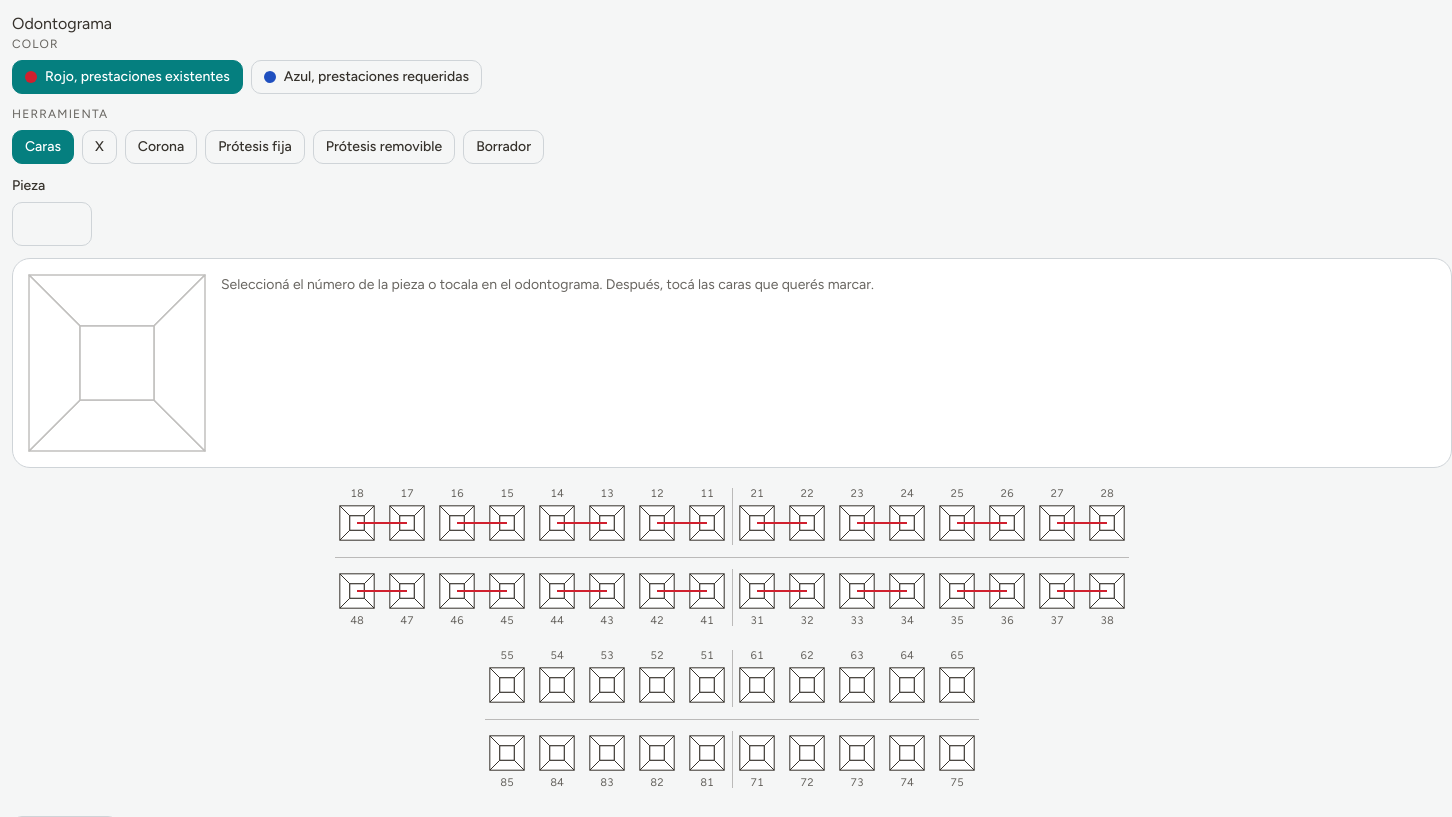
Test: CampoOdontograma › las prótesis › con 16 prótesis marcadas avisa y no suma la 17
The image size is (1452, 817).
Click the radio button labelled "Prótesis removible" at (384, 147), box x1=313 y1=130 x2=455 y2=164
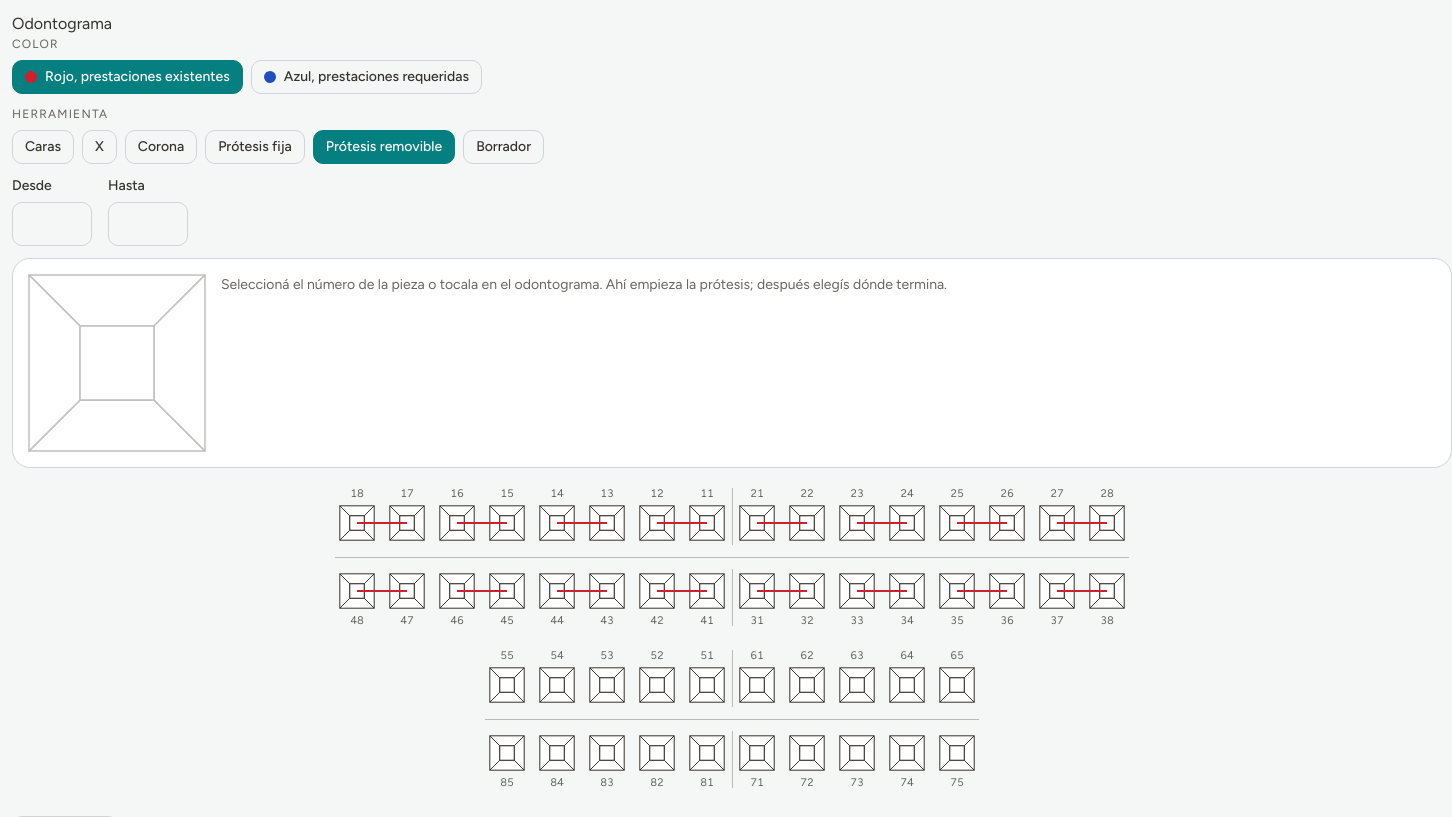
Click the button named "Pieza 55" at (507, 678), box x1=485 y1=650 x2=529 y2=707
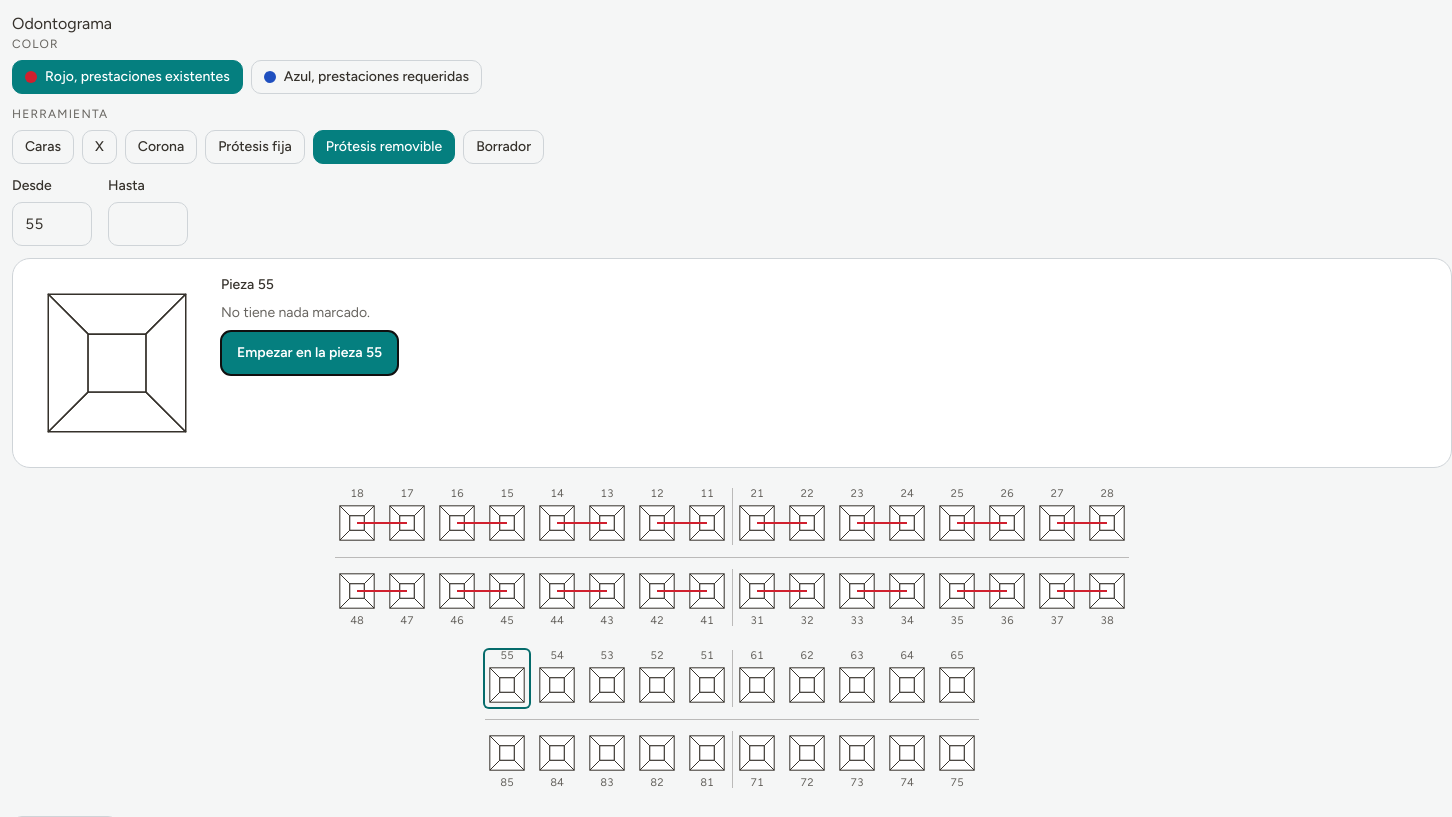
Click the button "Empezar en la pieza 55" at (310, 353), box x1=221 y1=331 x2=398 y2=375
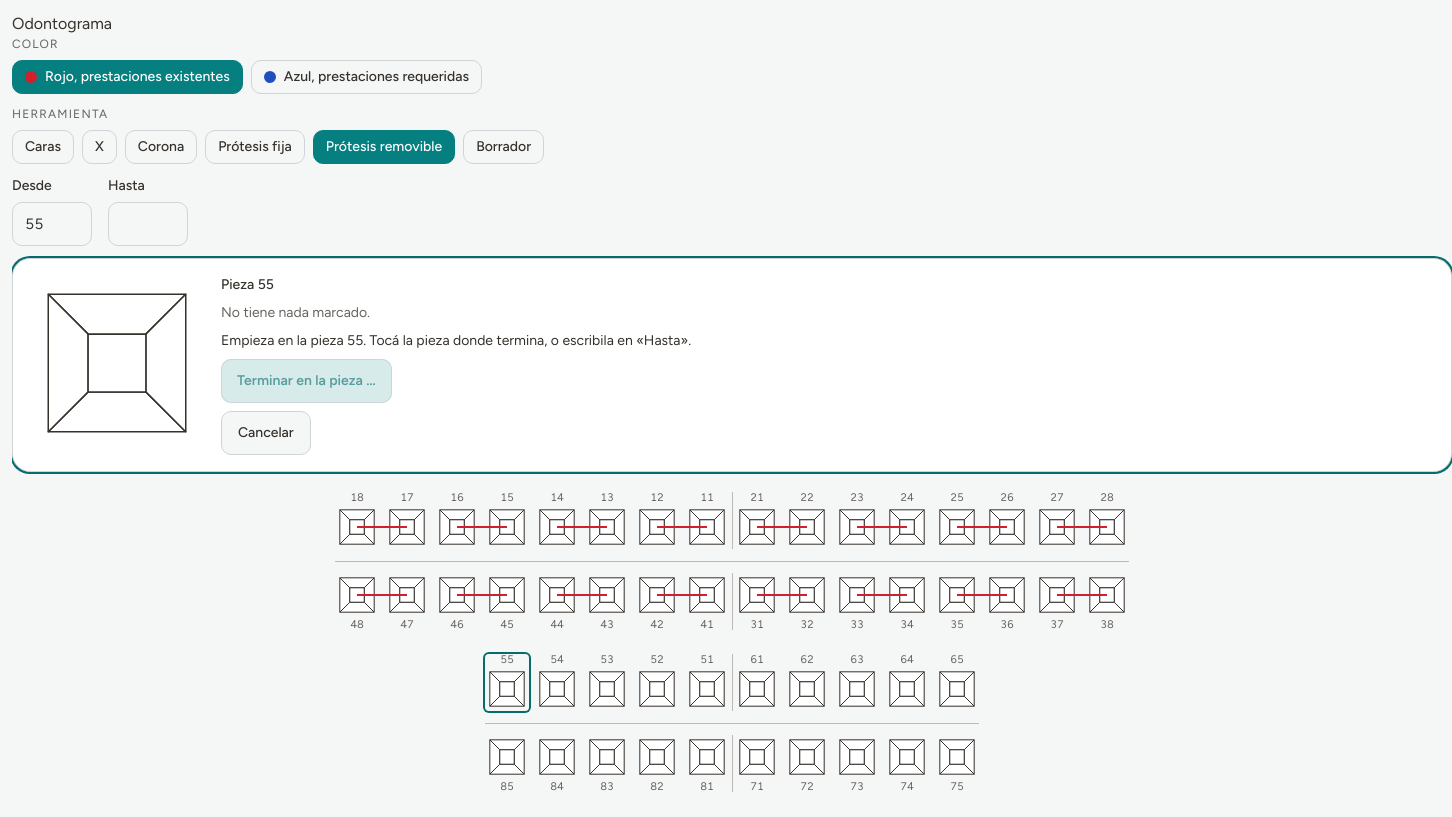
Click the button "53" at (607, 682), box x1=585 y1=654 x2=629 y2=711
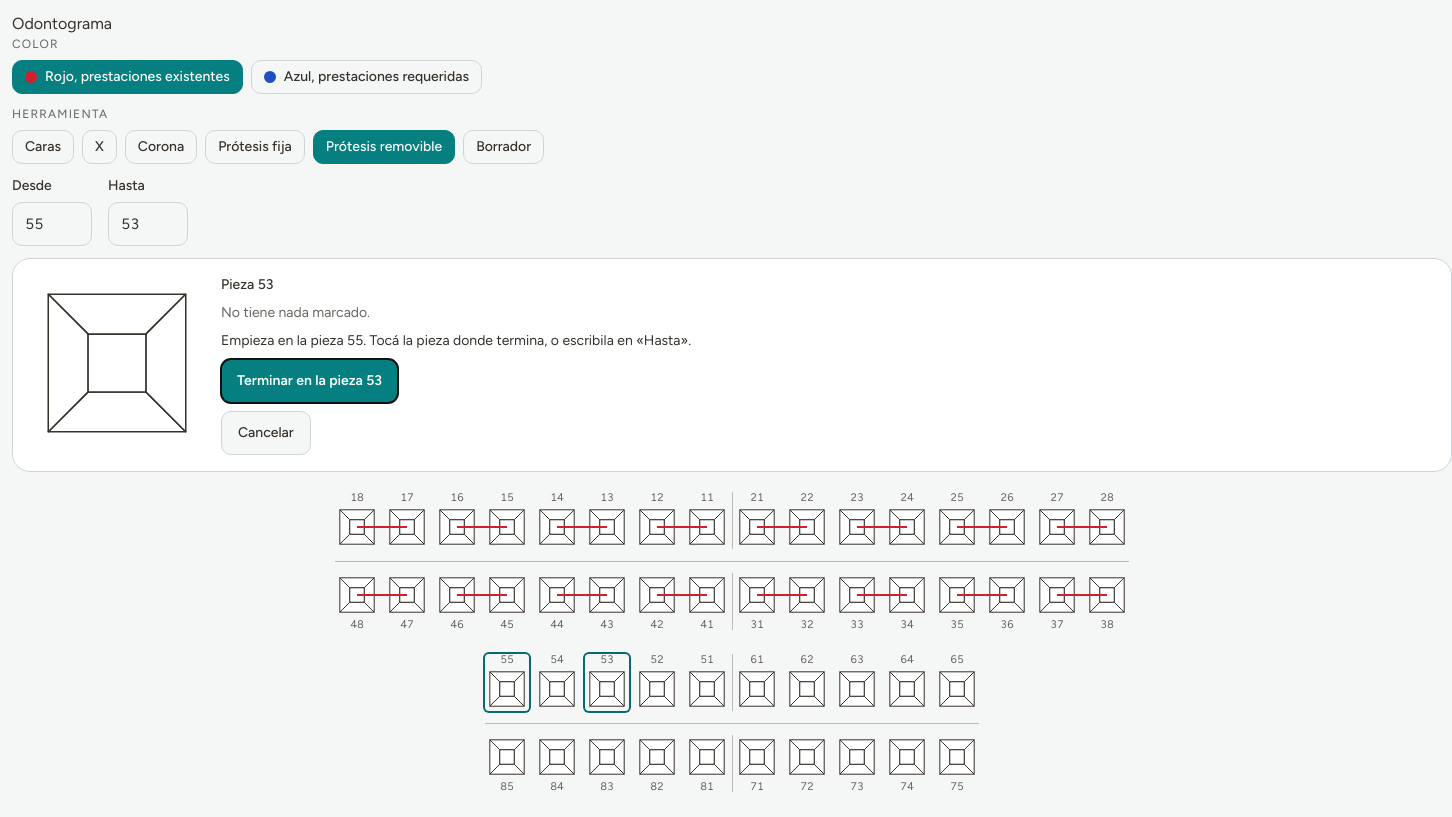
Click the button "Terminar en la pieza 53" at (310, 381), box x1=221 y1=359 x2=398 y2=403
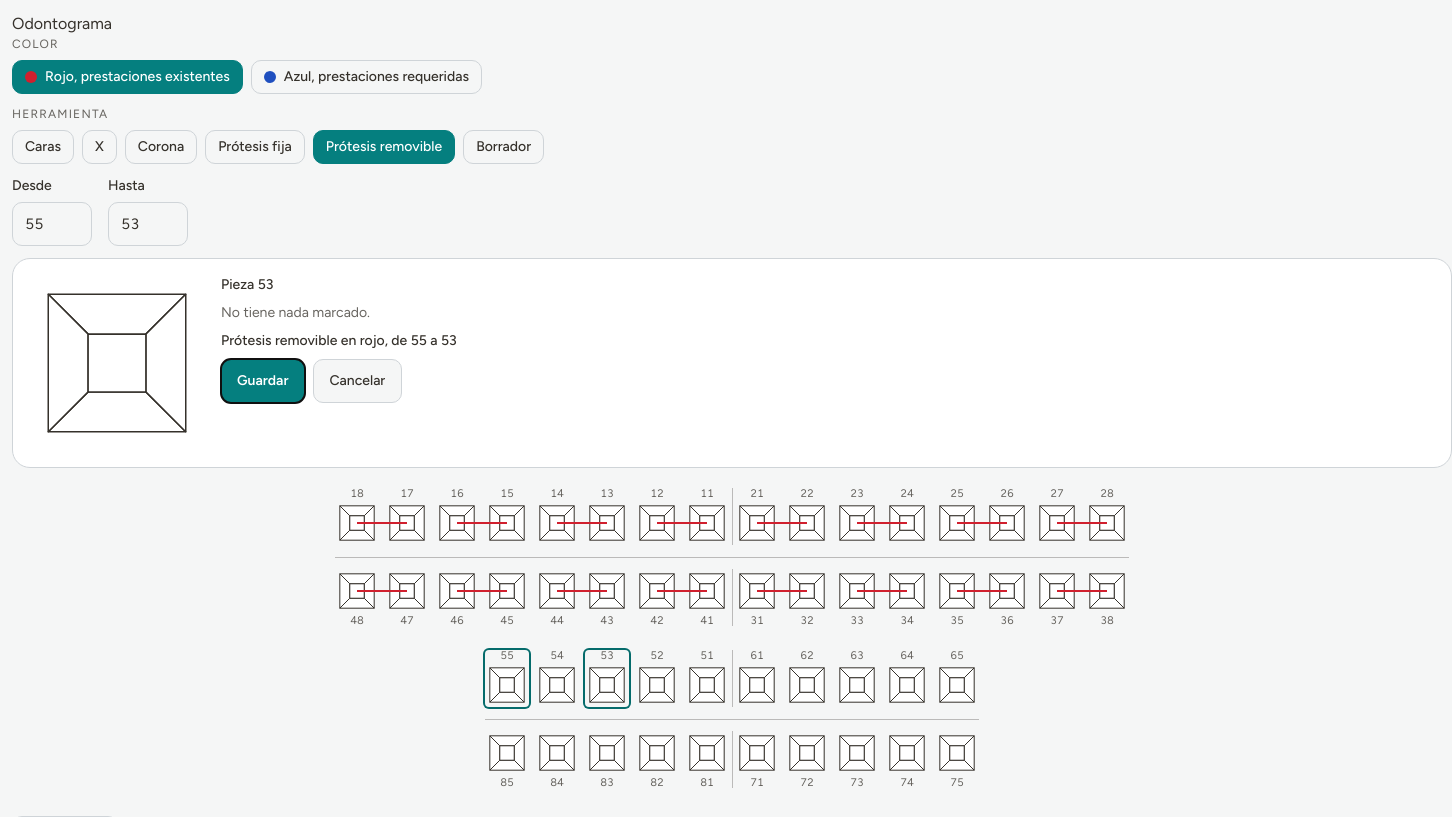
Click the button "Guardar" at (263, 381), box x1=221 y1=359 x2=304 y2=403
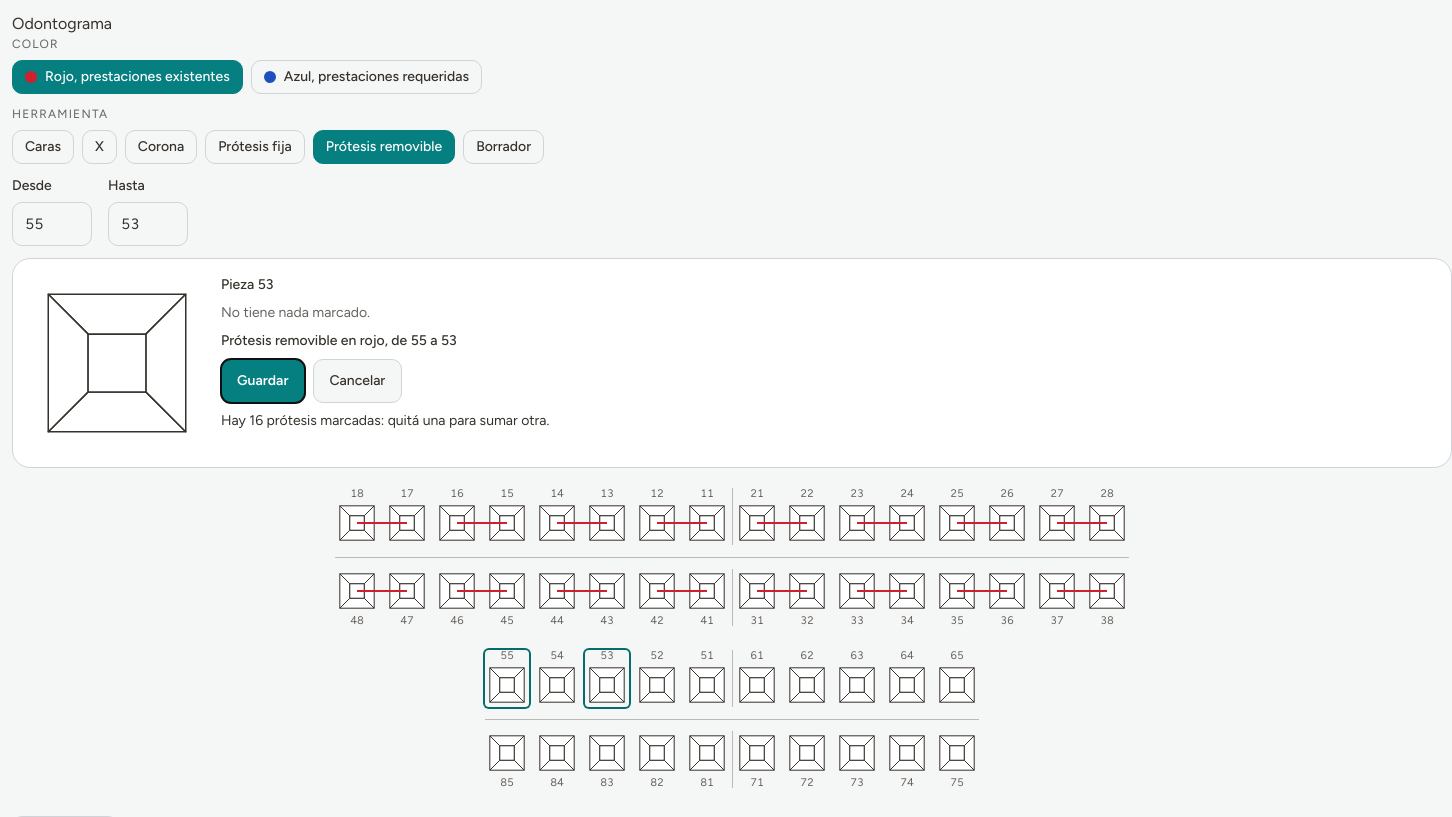
Expected: the text "Hay 16 prótesis marcadas: quitá una para sumar otra." is shown, x1=221 y1=412 x2=549 y2=429
